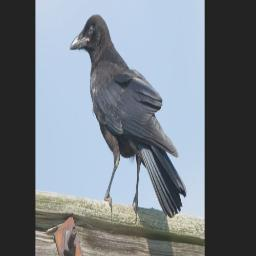Crow: (70, 14, 187, 218)
